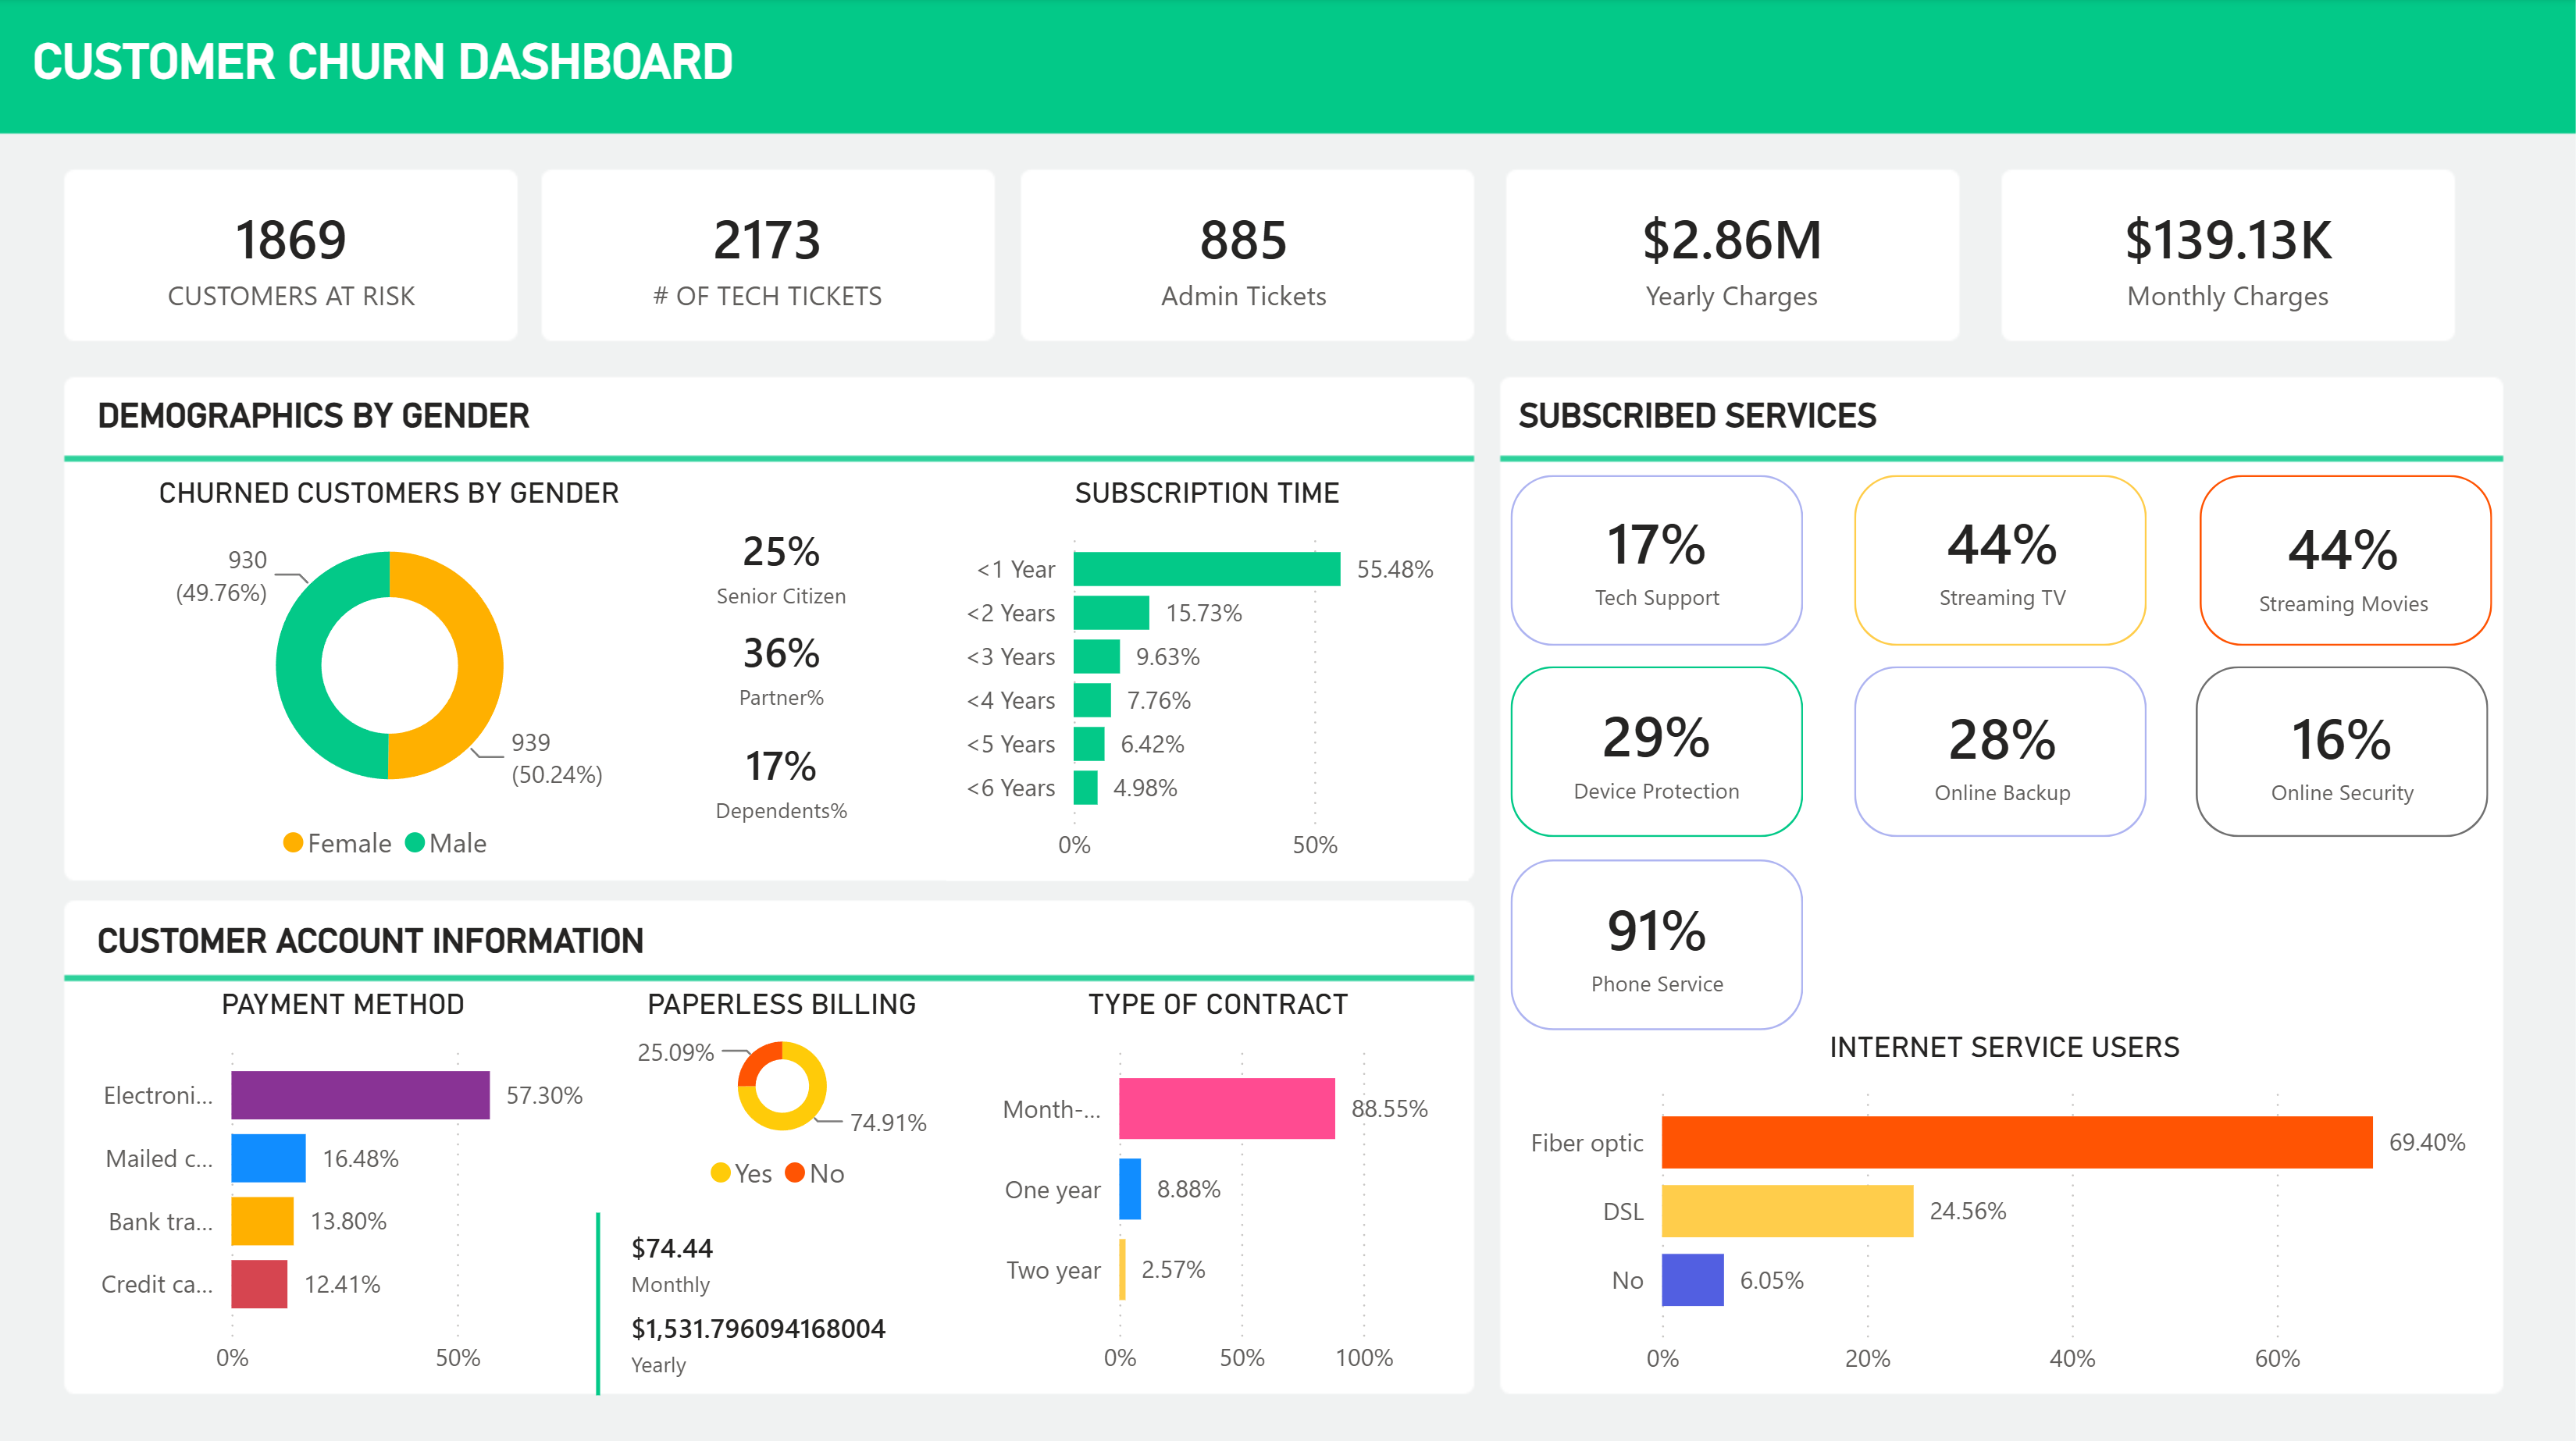

What the dashboard file says about the page in this screenshot:
{"tool":"powerbi","page":{"name":"Page 1","canvas":[1280,720],"ordinal":0},"visuals":[{"type":"cardVisual","fields":{"Data":["DAX.Senior Citizen%"]},"box":[321.6,226.7,135.8,111.1],"z":0,"group":"g2"},{"type":"group","id":"g1","title":"Group 2","box":[751.2,237.2,487.2,275.6],"z":0},{"type":"shape","box":[751.2,427.9,145.3,84.9],"z":0,"group":"g3"},{"type":"textbox","box":[12.3,12.3,458.3,49.4],"z":1000},{"type":"cardVisual","fields":{"Data":["DAX.Partner%"]},"box":[321.6,277.5,135.8,111.1],"z":1000,"group":"g2"},{"type":"shape","box":[922.1,332.5,145.3,84.9],"z":1000,"group":"g3"},{"type":"shape","box":[1091.9,332.5,145.3,84.9],"z":1000,"group":"g1"},{"type":"cardVisual","fields":{"Data":["DAX.Customer At Risk"]},"box":[34.9,81.4,222.1,94.2],"z":2000},{"type":"shape","box":[751.2,237.2,145.3,84.9],"z":2000,"group":"g3"},{"type":"cardVisual","fields":{"Data":["DAX.Dependents%"]},"box":[321.6,333.7,135.8,111.1],"z":2000,"group":"g2"},{"type":"cardVisual","fields":{"Data":["DAX.Admin Tickets"]},"box":[508.1,81.4,222.1,94.2],"z":3000},{"type":"shape","box":[751.2,332.5,145.3,84.9],"z":3000,"group":"g3"},{"type":"cardVisual","fields":{"Data":["DAX.Yearly Charges"]},"box":[750,81.4,222.1,94.2],"z":4000},{"type":"shape","box":[922.1,237.2,145.3,84.9],"z":4000,"group":"g3"},{"type":"cardVisual","fields":{"Data":["DAX.Tech Tickets"]},"box":[270.9,81.4,222.1,94.2],"z":5000},{"type":"shape","box":[1093.1,237.2,145.3,84.9],"z":5000,"group":"g3"},{"type":"cardVisual","fields":{"Data":["DAX.Monthly Charges"]},"box":[996.5,81.4,222.1,94.2],"z":6000},{"type":"textbox","box":[44.2,193,264,33.7],"z":7000},{"type":"textbox","box":[750,193,264,33.7],"z":8000},{"type":"textbox","box":[44.2,453.5,329.1,33.7],"z":9000},{"type":"donutChart","title":"CHURNED CUSTOMERS BY GENDER","fields":{"Category":["dim_customer.gender"],"Y":["CountNonNull(dim_customer.customerID)"]},"box":[34.3,237.4,321.1,201.7],"z":10000},{"type":"clusteredBarChart","title":"SUBSCRIPTION TIME","fields":{"Category":["dim_customer.Subscription Time"],"Y":["DAX.Churn Rate%"]},"box":[470.7,237.4,259.3,201.7],"z":11000},{"type":"clusteredBarChart","title":"PAYMENT METHOD","fields":{"Category":["dim_billing.PaymentMethod"],"Y":["DAX.Customer At Risk"]},"box":[34.9,491.9,273.3,202.3],"z":12000},{"type":"donutChart","title":"PAPERLESS BILLING","fields":{"Category":["dim_billing.PaperlessBilling"],"Y":["DAX.Customer At Risk"]},"box":[270.9,491.9,236,111.6],"z":13000},{"type":"clusteredBarChart","title":"TYPE OF CONTRACT","fields":{"Category":["dim_billing.Contract"],"Y":["DAX.Customer At Risk"]},"box":[481.4,491.9,248.8,202.3],"z":14000},{"type":"clusteredBarChart","title":"INTERNET SERVICE USERS","fields":{"Category":["dim_service.InternetService"],"Y":["DAX.Customer At Risk"]},"box":[750,512.8,493,181.4],"z":15000},{"type":"cardVisual","fields":{"Data":["DAX.TechSupport%"]},"box":[751.2,234.9,146.5,87.2],"z":16000},{"type":"cardVisual","fields":{"Data":["DAX.Avg. Monthly Charges","DAX.Avg. Yearly Charges"]},"box":[297.7,603.5,173.3,90.7],"z":16000,"group":"g4"},{"type":"cardVisual","fields":{"Data":["DAX.StreamingMovies%"]},"box":[1088.4,237.2,153.5,87.2],"z":17000},{"type":"shape","box":[291.9,603.5,12.8,90.7],"z":17000,"group":"g4"},{"type":"cardVisual","fields":{"Data":["DAX.StreamingTV%"]},"box":[923.3,234.9,146.5,87.2],"z":18000},{"type":"cardVisual","fields":{"Data":["DAX.Phone Service %"]},"box":[751.2,426.7,146.5,87.2],"z":19000},{"type":"cardVisual","fields":{"Data":["DAX.Device Protection%"]},"box":[746.5,330.2,155.8,87.2],"z":20000},{"type":"cardVisual","fields":{"Data":["DAX.OnlineBackup%"]},"box":[923.3,331.4,146.5,87.2],"z":21000},{"type":"cardVisual","fields":{"Data":["DAX.OnlineSecurity%"]},"box":[1091.9,331.4,146.5,87.2],"z":22000},{"type":"group","id":"g2","title":"Group 3","box":[321.6,226.7,136,218.3],"z":23000},{"type":"group","id":"g3","title":"Group 1","box":[751.2,237.2,487.2,275.6],"z":24000,"group":"g1"},{"type":"group","id":"g4","title":"Group 4","box":[291.9,603.5,179.1,90.7],"z":24000}]}

Visuals, with their boxes in screenshot pixels (x1, y1, x2, y2), scaled from the page's 1280x720 canvas onto the 2576x1441 screenshot:
cardVisual - DAX.Senior Citizen%: 647,454,921,676
"Group 2" group: 1512,475,2492,1026
shape: 1512,856,1805,1026
textbox: 25,25,947,123
cardVisual - DAX.Partner%: 647,555,921,777
shape: 1856,665,2148,835
shape: 2197,665,2490,835
cardVisual - DAX.Customer At Risk: 70,163,517,351
shape: 1512,475,1805,645
cardVisual - DAX.Dependents%: 647,668,921,890
cardVisual - DAX.Admin Tickets: 1023,163,1470,351
shape: 1512,665,1805,835
cardVisual - DAX.Yearly Charges: 1509,163,1956,351
shape: 1856,475,2148,645
cardVisual - DAX.Tech Tickets: 545,163,992,351
shape: 2200,475,2492,645
cardVisual - DAX.Monthly Charges: 2005,163,2453,351
textbox: 89,386,620,454
textbox: 1509,386,2040,454
textbox: 89,908,751,975
"CHURNED CUSTOMERS BY GENDER" donutChart: 69,475,715,879
"SUBSCRIPTION TIME" clusteredBarChart: 947,475,1469,879
"PAYMENT METHOD" clusteredBarChart: 70,984,620,1389
"PAPERLESS BILLING" donutChart: 545,984,1020,1208
"TYPE OF CONTRACT" clusteredBarChart: 969,984,1470,1389
"INTERNET SERVICE USERS" clusteredBarChart: 1509,1026,2502,1389
cardVisual - DAX.TechSupport%: 1512,470,1807,645
cardVisual - DAX.Avg. Monthly Charges x DAX.Avg. Yearly Charges: 599,1208,948,1389
cardVisual - DAX.StreamingMovies%: 2190,475,2499,649
shape: 587,1208,613,1389
cardVisual - DAX.StreamingTV%: 1858,470,2153,645
cardVisual - DAX.Phone Service %: 1512,854,1807,1029
cardVisual - DAX.Device Protection%: 1502,661,1816,835
cardVisual - DAX.OnlineBackup%: 1858,664,2153,838
cardVisual - DAX.OnlineSecurity%: 2197,664,2492,838
"Group 3" group: 647,454,921,891
"Group 1" group: 1512,475,2492,1026
"Group 4" group: 587,1208,948,1389
